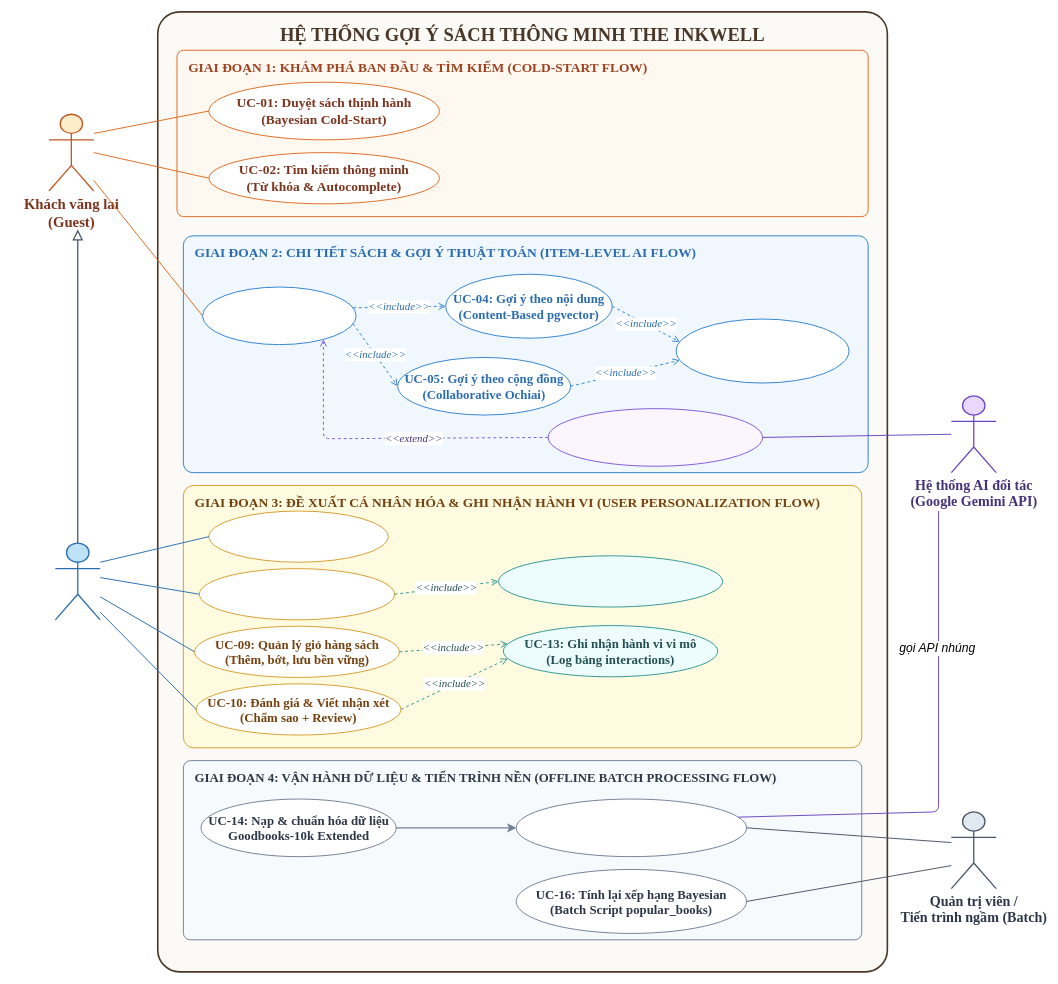
Image size: 1058x984. Some labels were removed from this diagram. The centre of each missing label's shape, as x and y in pixels:
"UC-03: Xem chi tiết sách & Đánh giá cộng đồng" goes at (279,315).
"UC-06: Gợi ý lai Hybrid (Borda Count Fusion + Alpha)" goes at (762,350).
"UC-07: Xem lời bình Mercy AI (Google Gemini 2.5 Flash)" goes at (655,437).
"UC-08: Chọn hồ sơ độc giả (Kích hoạt Demo user_id)" goes at (298,536).
"UC-11: Gợi ý cá nhân hóa (Just For You + Thẻ lý do)" goes at (297,594).
"UC-12: Kiểm tra bộ nhớ đệm (recommendation_cache)" goes at (610,581).
"UC-15: Sinh vector nhúng 768 chiều (Embedding vào pgvector)" goes at (631,827).
"Độc giả / Người dùng (Registered User)" goes at (77,581).
